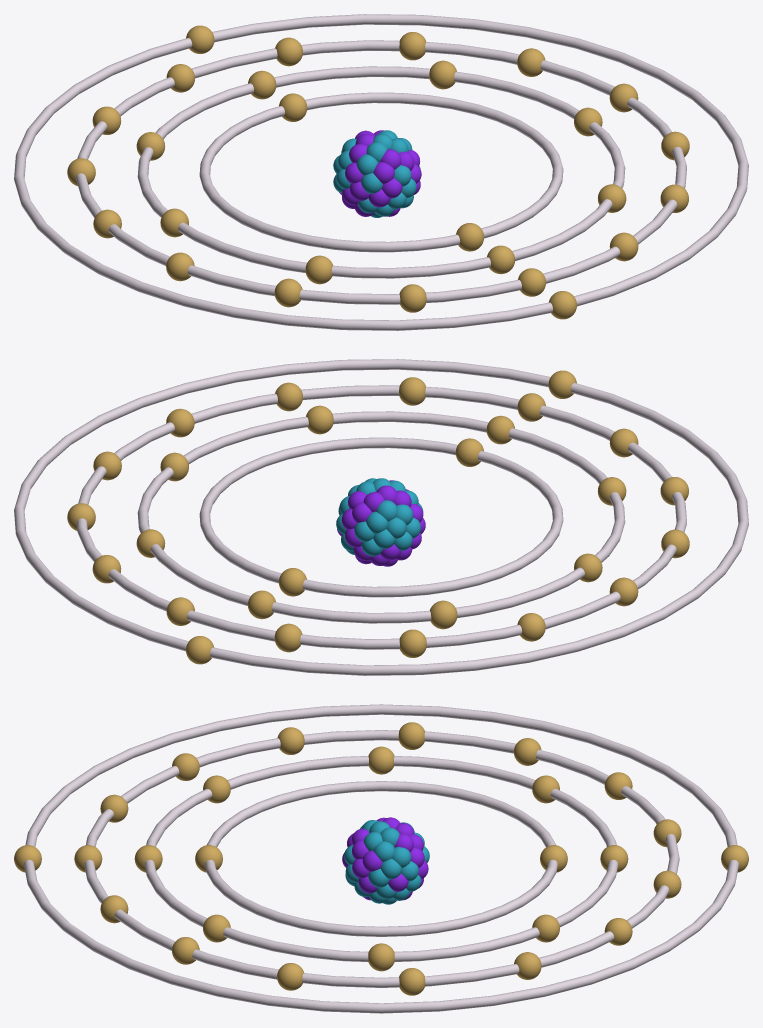
The model's file is cobalto.glb.
3 renders of one model, top to bottom at view 1: azimuth 30°, elevation 25°; view 2: azimuth 150°, elevation 25°; view 3: azimuth 270°, elevation 25°, orthographic. The views are drawn at different scales.
Parts seen in each view (by area): view 1: Orbita_4, Orbita_3, Orbita_2, Orbita_1, Nucleo_Completo, Eletron_C2_8, Eletron_C3_15, Eletron_C3_7, Eletron_C3_8, Eletron_C3_14, Eletron_C2_4, Eletron_C2_1 (+20 smaller); view 2: Orbita_4, Orbita_3, Orbita_2, Orbita_1, Nucleo_Completo, Eletron_C3_10, Eletron_C2_6, Eletron_C3_2, Eletron_C3_9, Eletron_C2_2, Eletron_C3_3, Eletron_C2_5 (+20 smaller); view 3: Orbita_4, Orbita_3, Orbita_2, Orbita_1, Nucleo_Completo, Eletron_C2_3, Eletron_C3_5, Eletron_C3_12, Eletron_C3_4, Eletron_C2_7, Eletron_C3_13, Eletron_C3_6 (+20 smaller).
Part boxes in pixels (bbox=[...]): Orbita_4: bbox=[14, 14, 748, 330]; Orbita_3: bbox=[76, 40, 686, 304]; Orbita_2: bbox=[137, 66, 625, 278]; Orbita_1: bbox=[199, 92, 563, 252]; Nucleo_Completo: bbox=[333, 130, 421, 217]; Eletron_C2_8: bbox=[305, 255, 332, 284]; Eletron_C3_15: bbox=[399, 284, 426, 312]; Eletron_C3_7: bbox=[399, 32, 426, 60]; Eletron_C3_8: bbox=[275, 37, 302, 66]; Eletron_C3_14: bbox=[274, 278, 302, 307]; Eletron_C2_4: bbox=[429, 60, 456, 89]; Eletron_C2_1: bbox=[487, 245, 514, 274]; Orbita_4: bbox=[14, 359, 748, 675]; Orbita_3: bbox=[76, 385, 686, 649]; Orbita_2: bbox=[137, 411, 625, 623]; Orbita_1: bbox=[199, 437, 563, 597]; Nucleo_Completo: bbox=[336, 478, 425, 566]; Eletron_C3_10: bbox=[399, 629, 426, 657]; Eletron_C2_6: bbox=[430, 600, 457, 629]; Eletron_C3_2: bbox=[399, 377, 425, 405]; Eletron_C3_9: bbox=[274, 623, 302, 652]; Eletron_C2_2: bbox=[306, 405, 333, 434]; Eletron_C3_3: bbox=[275, 382, 302, 411]; Eletron_C2_5: bbox=[248, 590, 275, 619]; Orbita_4: bbox=[24, 704, 738, 1013]; Orbita_3: bbox=[84, 730, 679, 987]; Orbita_2: bbox=[144, 756, 618, 961]; Orbita_1: bbox=[205, 781, 557, 936]; Nucleo_Completo: bbox=[342, 817, 429, 904]; Eletron_C2_3: bbox=[368, 943, 394, 971]; Eletron_C3_5: bbox=[399, 968, 425, 995]; Eletron_C3_12: bbox=[398, 722, 424, 749]; Eletron_C3_4: bbox=[277, 963, 303, 990]; Eletron_C2_7: bbox=[368, 746, 394, 774]; Eletron_C3_13: bbox=[277, 727, 304, 754]; Eletron_C3_6: bbox=[514, 952, 541, 979].
Bounding box in the file's own units: 4.16 × 0.5056 × 4.26.
